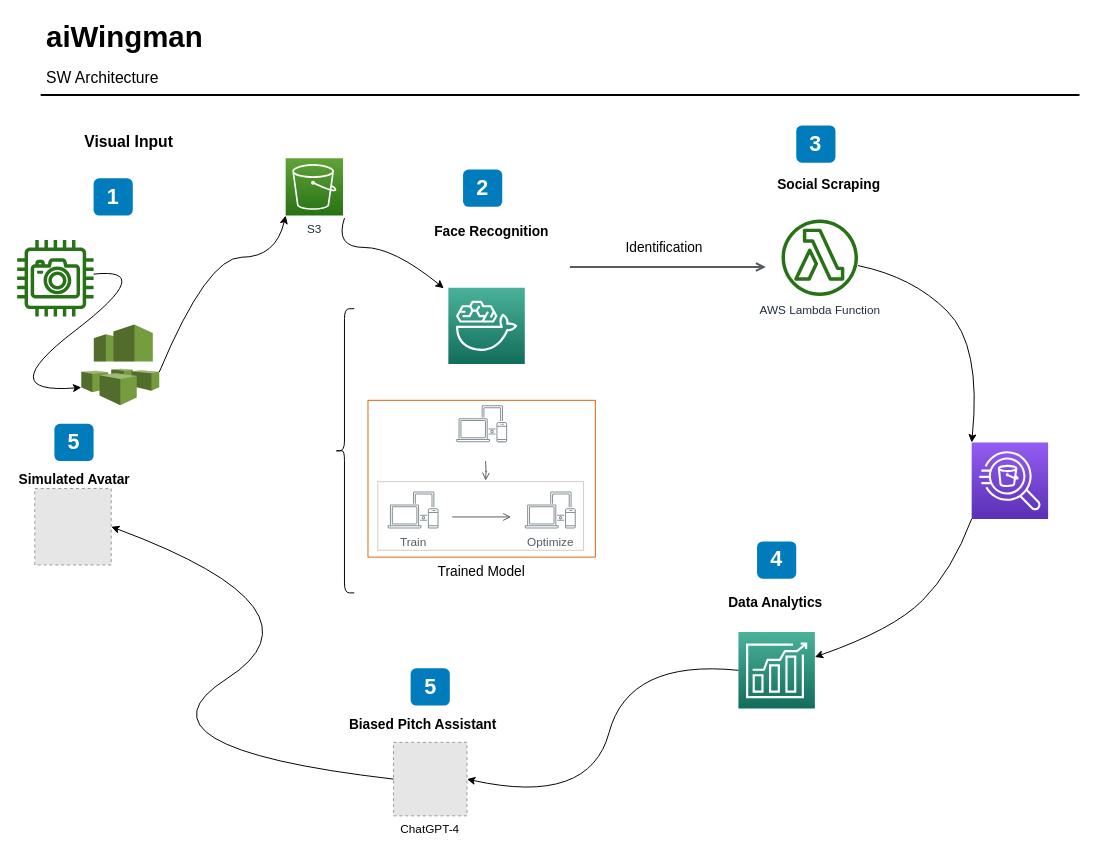
This 1097x854 diagram has some shape labels left out. Grey dashed boxes stand in for pictures. The shapes that lost their labels are listed below. From the top down, each one's centre as x and y in pixels, then its label:
At point (486, 325): "ML Model Executable".
At point (119, 364): "EC2".
At point (481, 423): "Build".
At point (1009, 480): "Athena".
